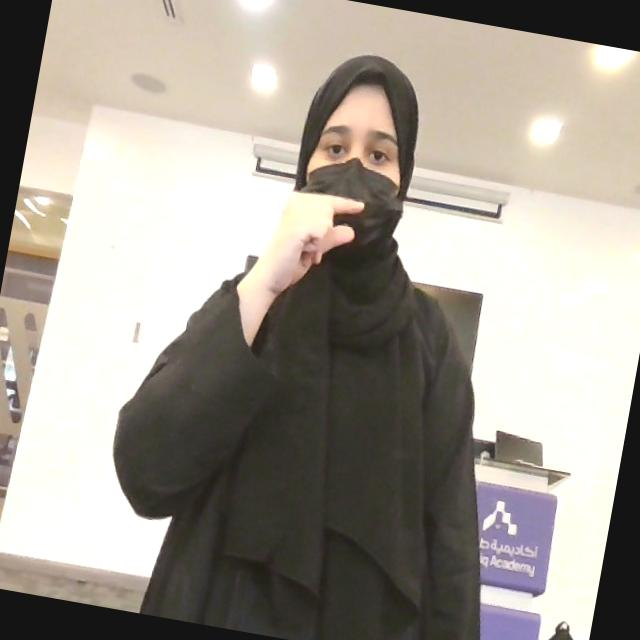fasting: (254, 180, 366, 306)
